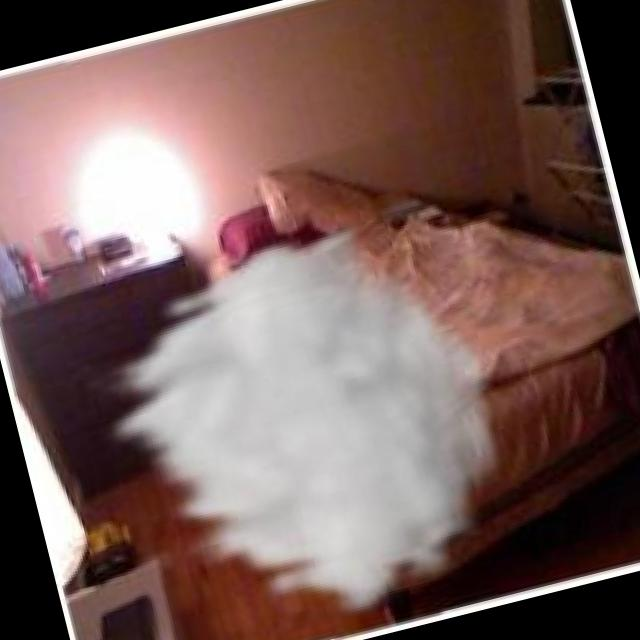Smoke: (59, 192, 545, 640)
